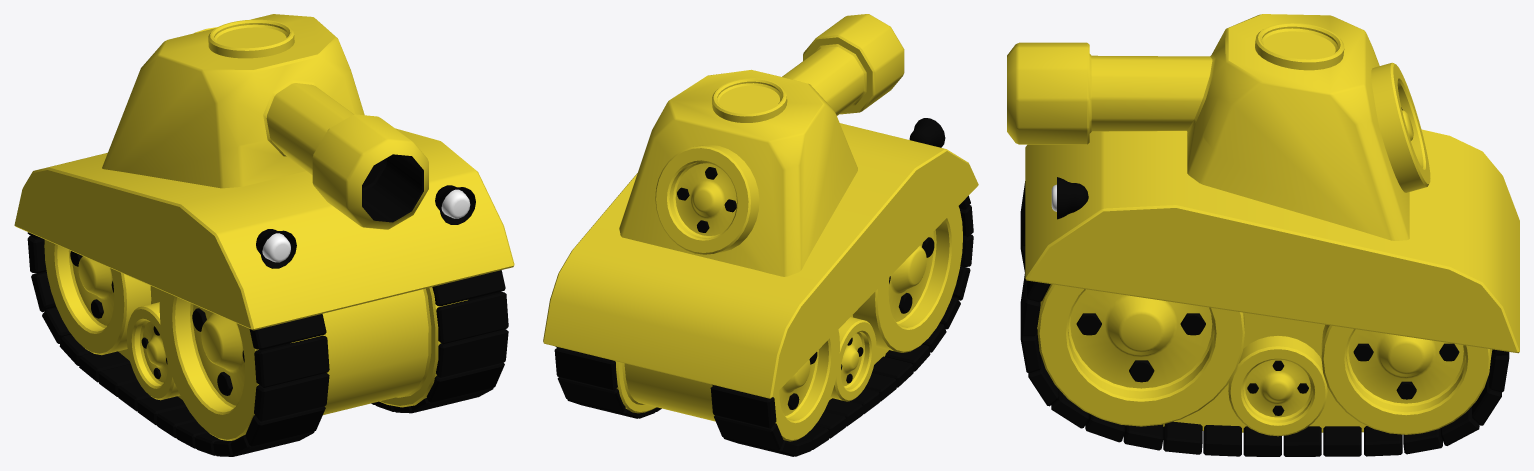
Rendered from Javascript.fbx.
The picture shows the model from 3 angles, left to right: view 1: azimuth 30°, elevation 25°; view 2: azimuth 150°, elevation 25°; view 3: azimuth 270°, elevation 25°; orthographic projection. The views are drawn at different scales.
Visible parts, largest first — view 1: Base.006; view 2: Base.006; view 3: Base.006.
Part boxes in pixels (bbox=[...]): Base.006: bbox=[14, 14, 514, 456]; Base.006: bbox=[543, 14, 978, 456]; Base.006: bbox=[1007, 14, 1519, 456].
Size of the model in its own units: 147 by 185 by 240.
